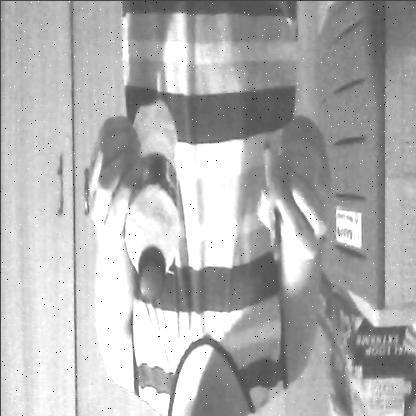Plastic Bottle: (119, 92, 183, 313)
